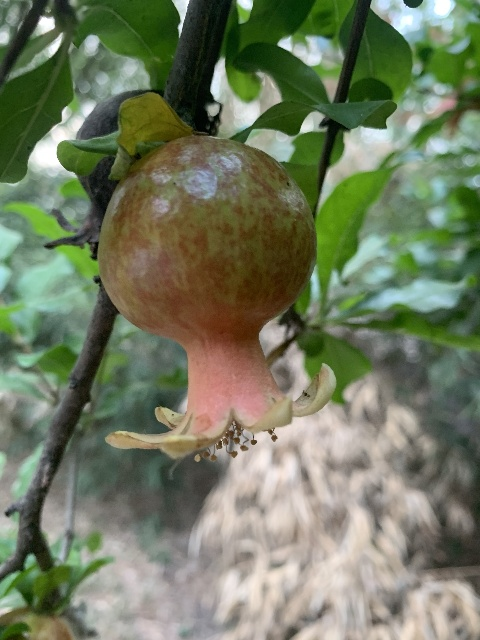early-fruit: (97, 135, 335, 449)
